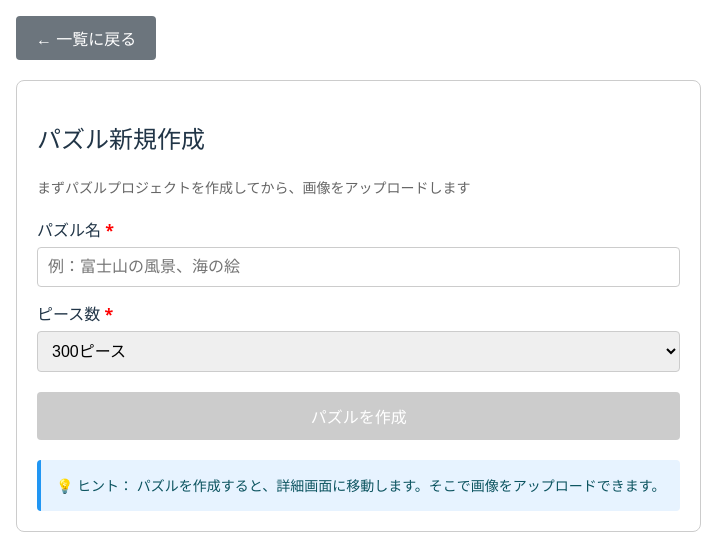
Test case: PuzzleCreate › 作成中はボタンが無効化され、ローディング表示になる
Type "テストパズル" into the field with placeholder "例：富士山の風景、海の絵". click: coordinates (359, 267)
box: [37, 247, 680, 287]
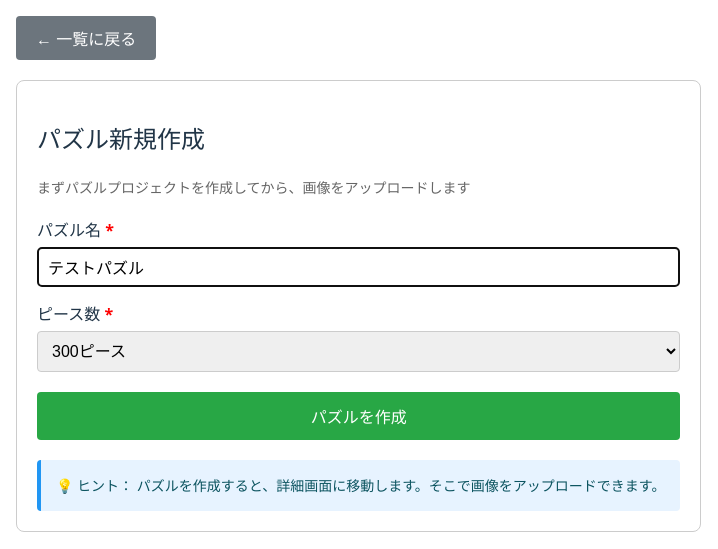
Click the button "パズルを作成". click: coordinates (359, 416)
box: [37, 392, 680, 440]
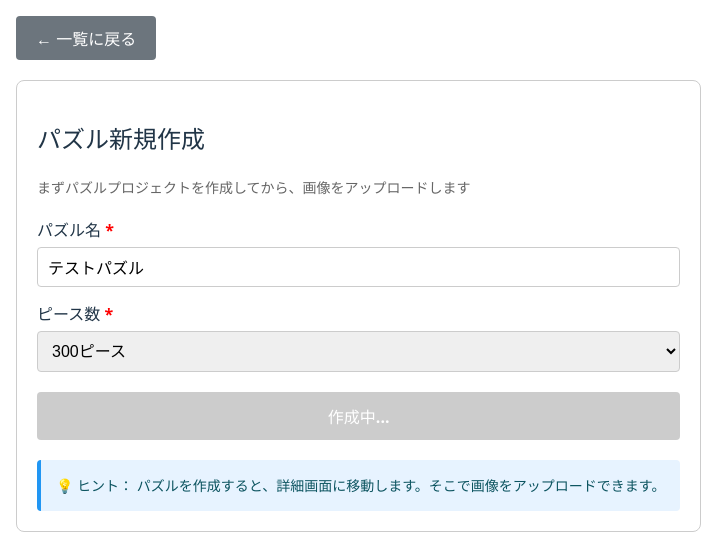
Check: the button "作成中..." is shown, box [37, 392, 680, 440]
